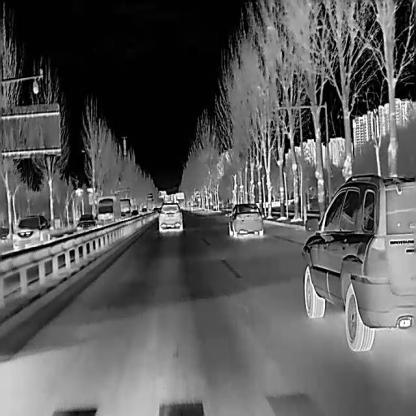car: (301, 170, 416, 351), (12, 212, 51, 252), (227, 201, 263, 237), (97, 194, 121, 228), (157, 200, 182, 231), (76, 211, 98, 238), (119, 197, 131, 222), (131, 208, 139, 219), (141, 206, 148, 216)
